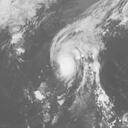cyclone: (49, 32, 104, 93)
